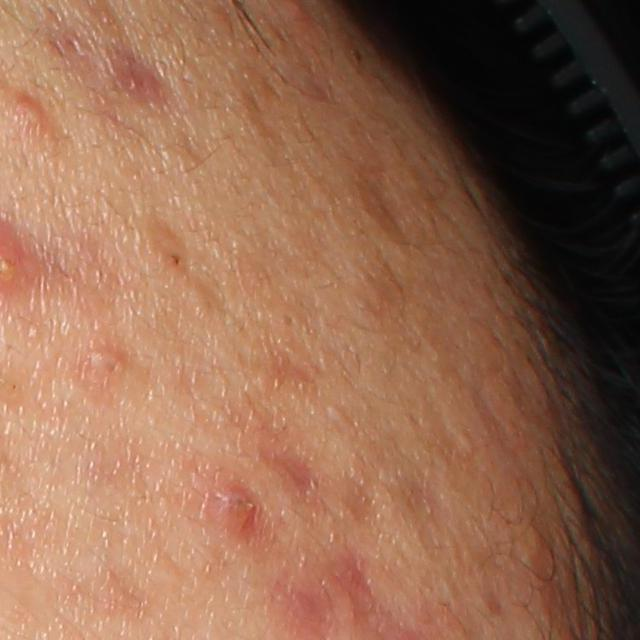comedo: (187, 276, 221, 322), (279, 307, 300, 331)
papule: (200, 484, 267, 551), (2, 89, 47, 136), (83, 344, 128, 382)
